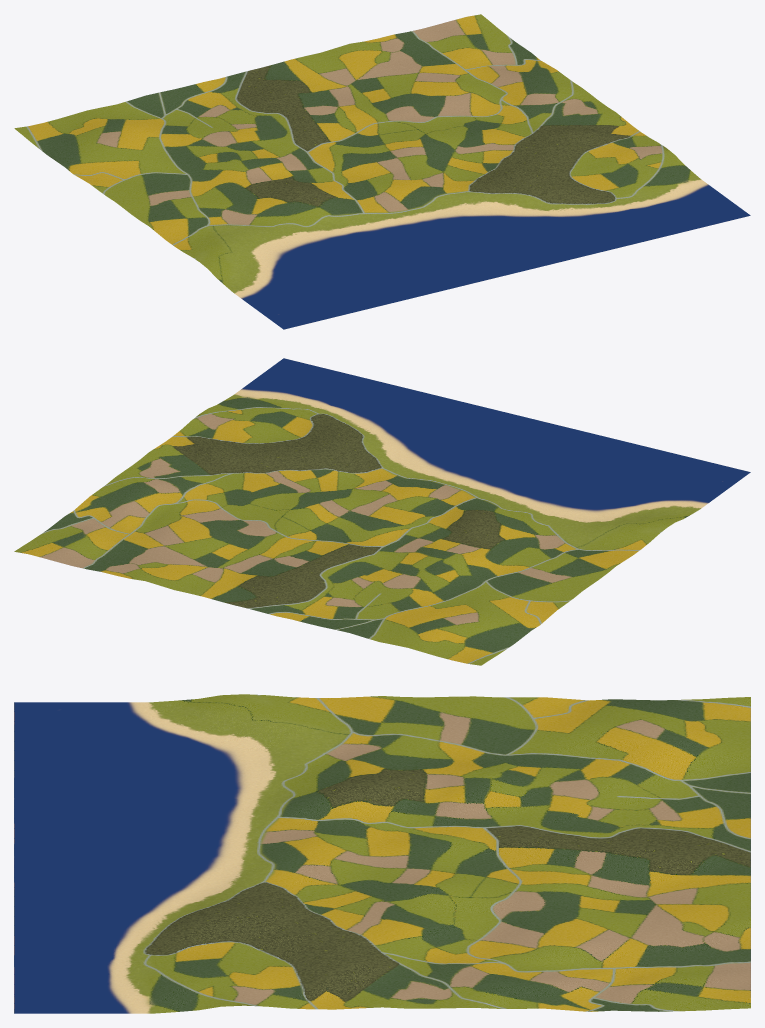
3 views of the same model, one above another, from view 1: azimuth 30°, elevation 25°; view 2: azimuth 150°, elevation 25°; view 3: azimuth 270°, elevation 25° (orthographic). The views are drawn at different scales.
Visible parts, largest first — view 1: tile-c; view 2: tile-c; view 3: tile-c.
Part boxes in pixels (x1=…): tile-c: x1=14, y1=14, x2=750, y2=329; tile-c: x1=14, y1=358, x2=750, y2=665; tile-c: x1=14, y1=694, x2=750, y2=1013.
Bounding box in the file's own units: 3000 × 63.53 × 3000.
1 material, 1 textured.
